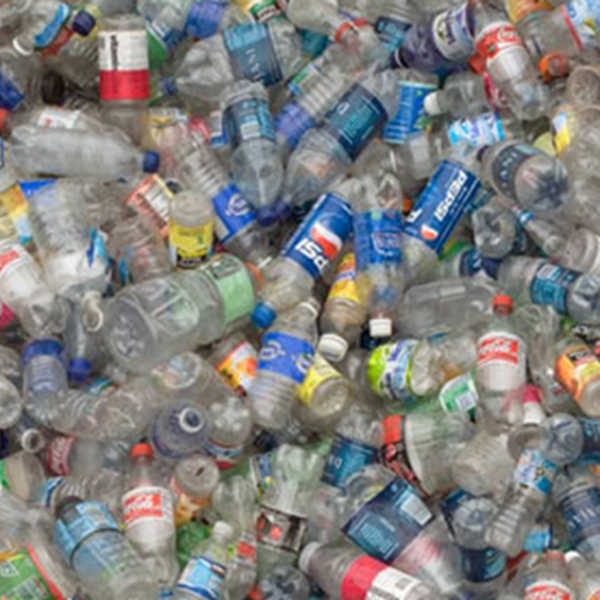plastic_bottle: (121, 71, 300, 300), (92, 226, 305, 380), (221, 236, 391, 425), (4, 68, 219, 213), (13, 144, 139, 372), (348, 132, 434, 365), (461, 205, 578, 329)
